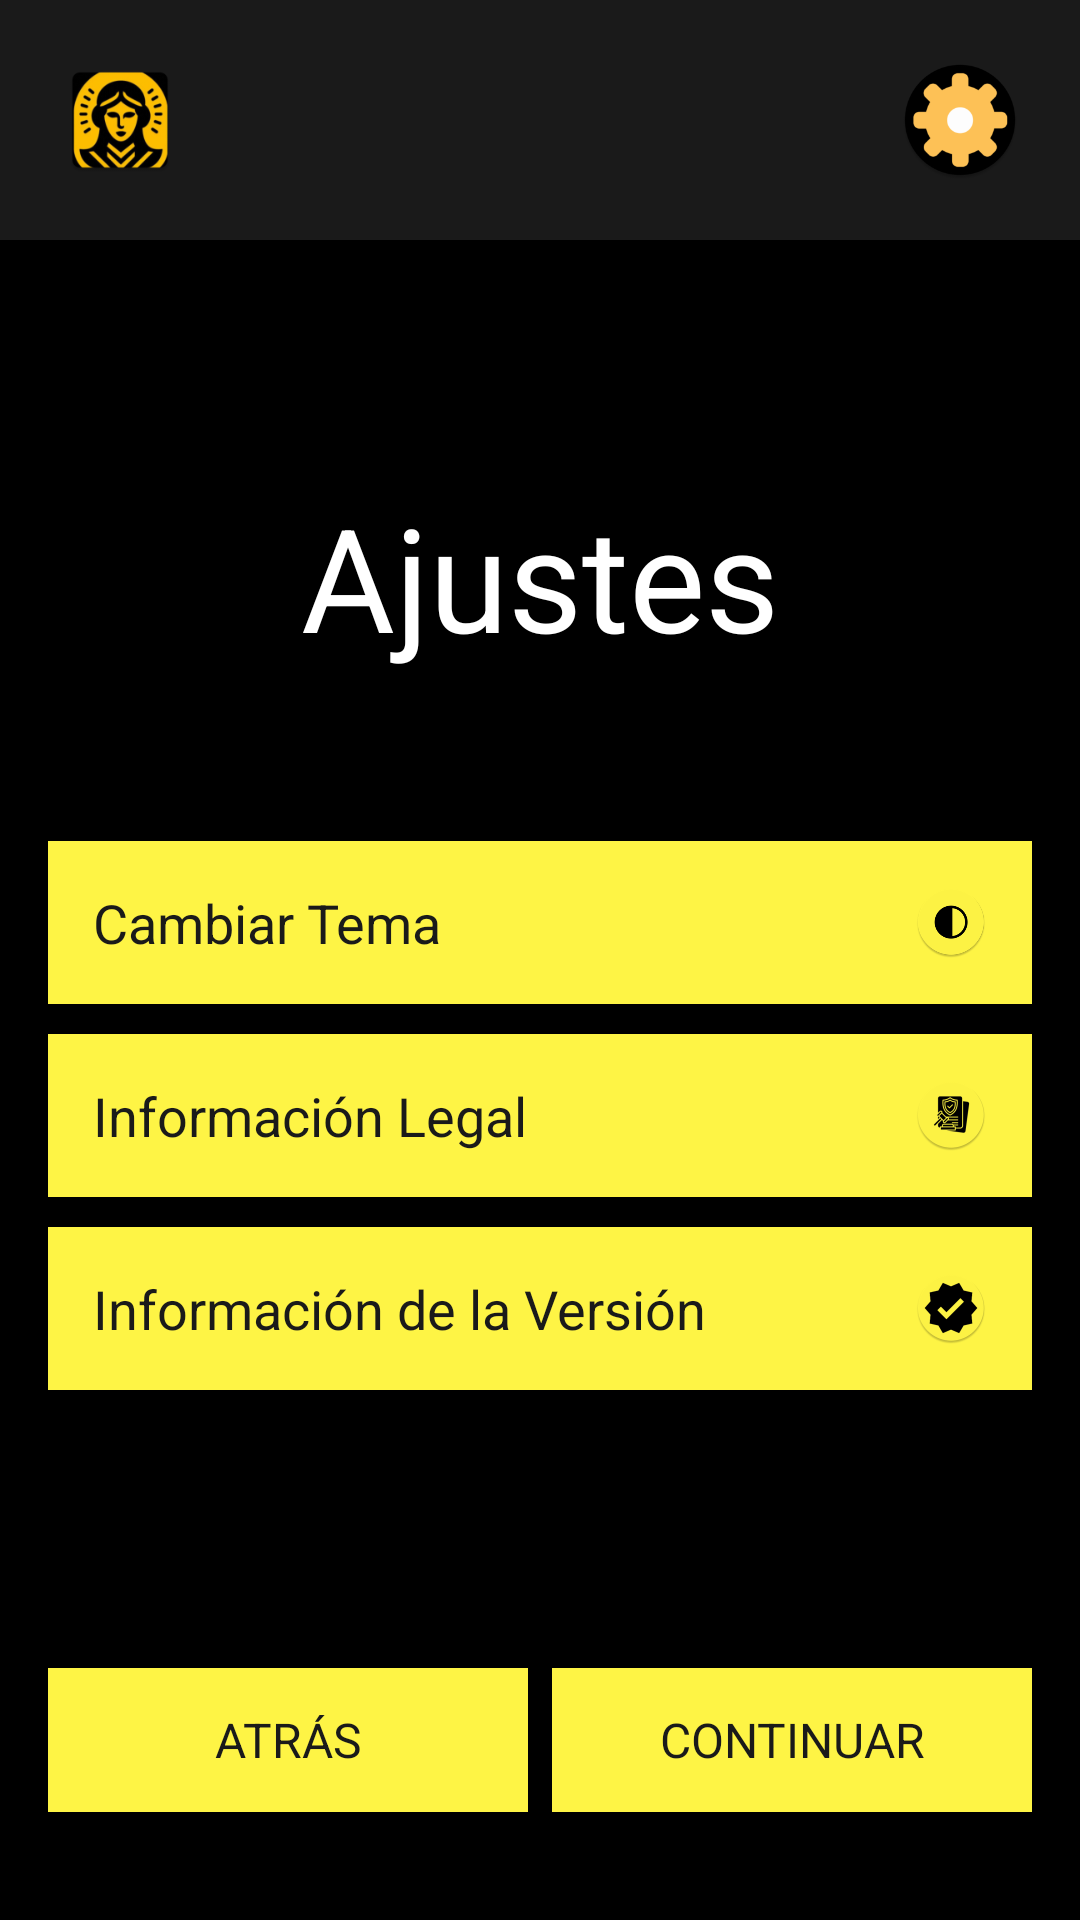

Point at icon controls on the screen. Image size 1080px×1920px, points as [x,y].
profile: [120,120]
settings: [960,120]
theme: [951,931]
